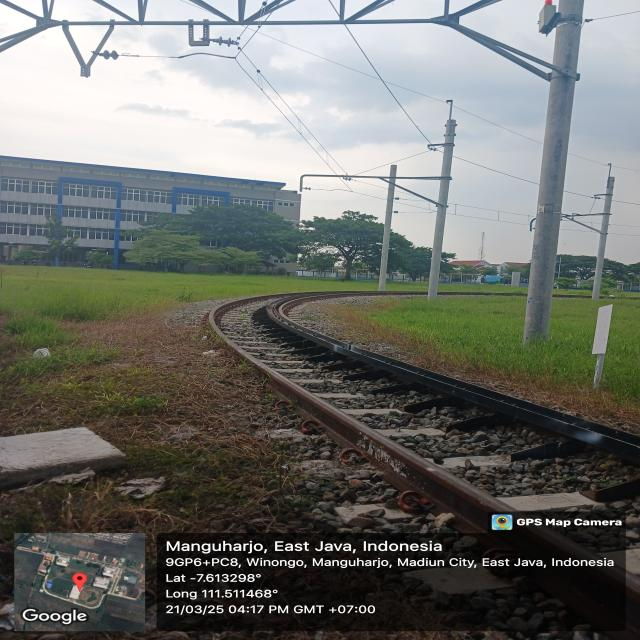rail-detection: (238, 350, 625, 630), (268, 301, 640, 460)
